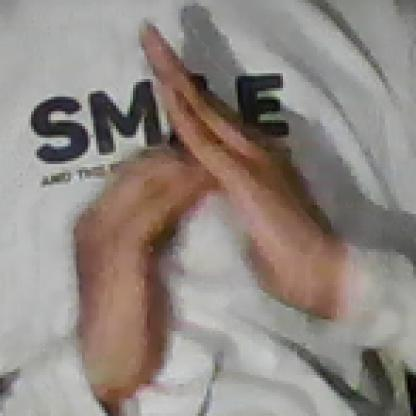Z: (66, 12, 320, 366)
